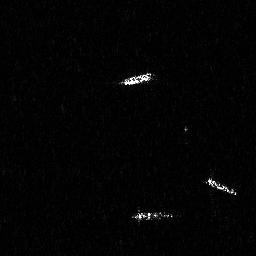ship: (130, 206, 180, 226), (202, 173, 239, 198), (117, 70, 156, 87)
